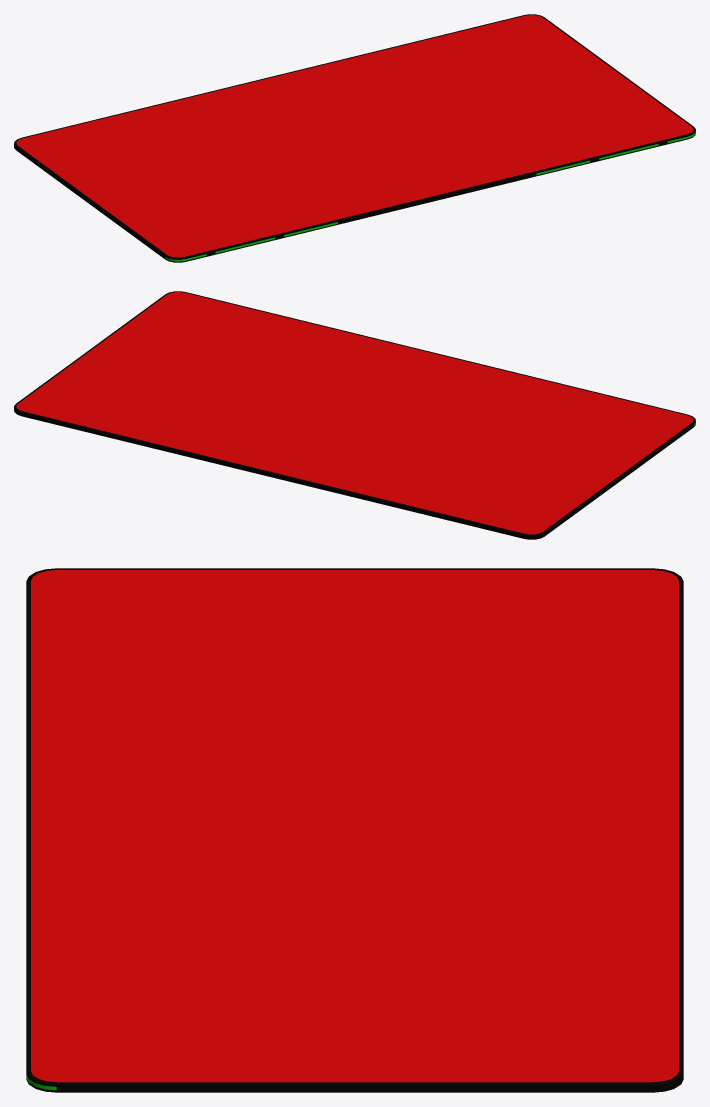
File: PlatfromPlane.fbx
3 renders of one model, top to bottom at view 1: azimuth 30°, elevation 25°; view 2: azimuth 150°, elevation 25°; view 3: azimuth 270°, elevation 25°, orthographic. The views are drawn at different scales.
Parts seen in each view (by area): view 1: platform_low; view 2: platform_low; view 3: platform_low.
Boxes of the visible parts, left/top/right/bottom form: platform_low: left=14, top=14, right=695, bottom=262; platform_low: left=14, top=291, right=695, bottom=539; platform_low: left=26, top=568, right=683, bottom=1092.
Size of the model in its own units: 0.2466 by 0.00196 by 0.1327.
